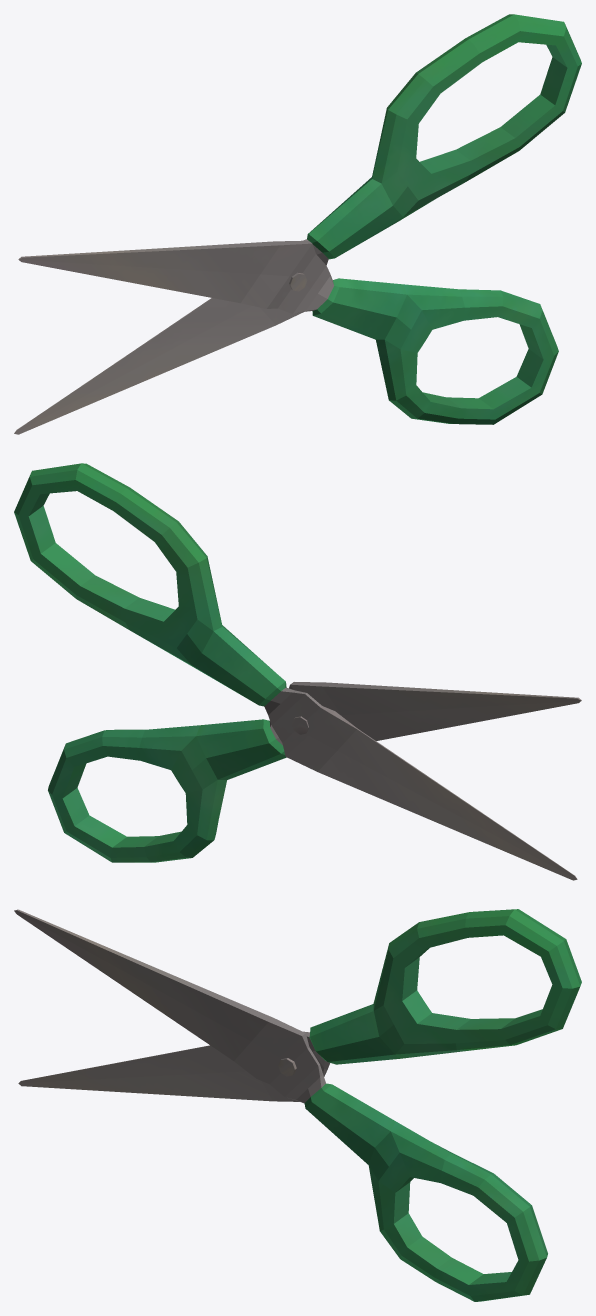
Rendered from MetalShears.fbx.
3 renders of one model, top to bottom at view 1: azimuth 30°, elevation 25°; view 2: azimuth 150°, elevation 25°; view 3: azimuth 330°, elevation 25°, orthographic.
Visible parts, largest first — view 1: F_scissors1; view 2: F_scissors1; view 3: F_scissors1.
Boxes of the visible parts, x1,y1,x2,y2 form: F_scissors1: [14, 14, 581, 434]; F_scissors1: [14, 463, 581, 880]; F_scissors1: [14, 909, 581, 1301].
Bounding box in the file's own units: 0.3389 × 0.2281 × 0.021.
